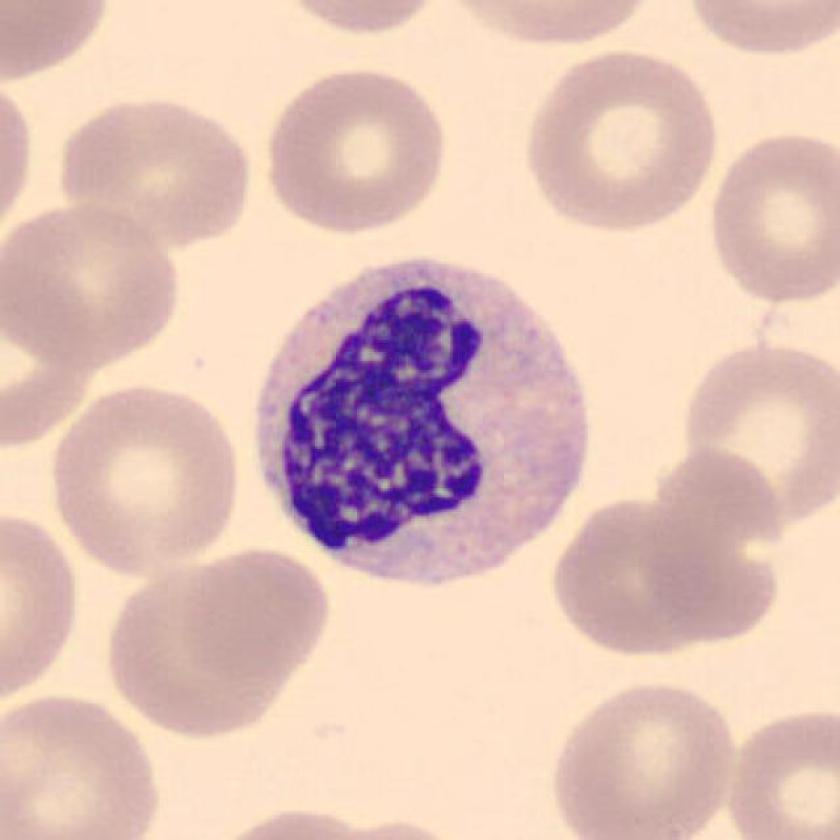neutrophil: (259, 259, 587, 583)
